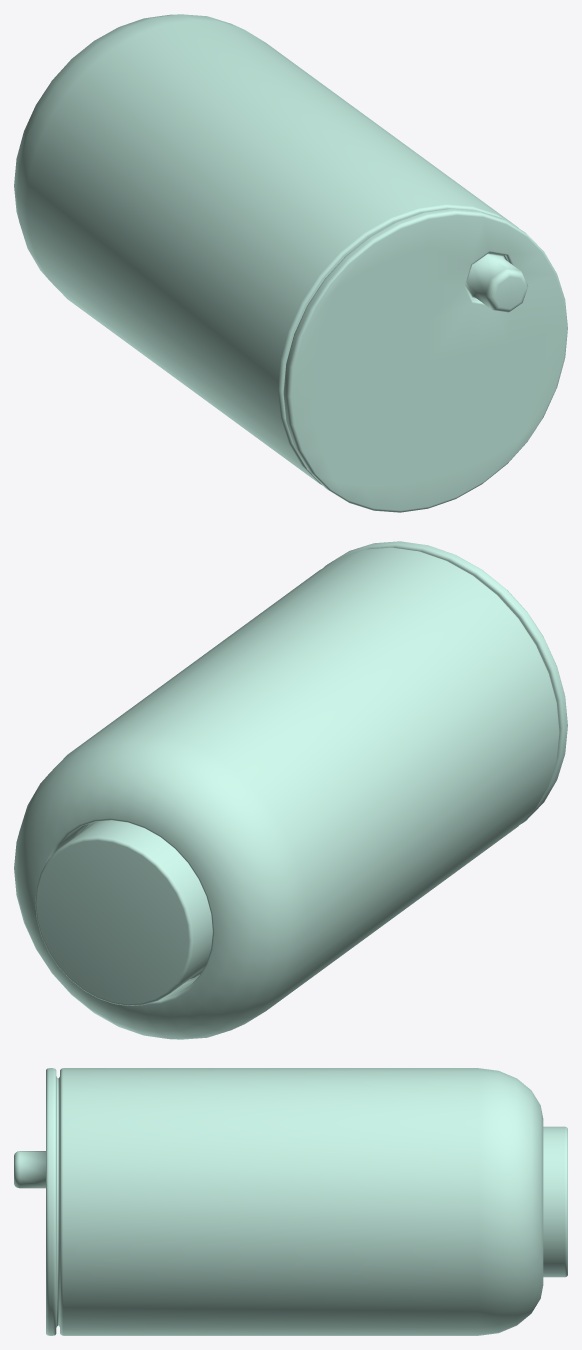
The model's file is hashira.glb.
The picture shows the model from 3 angles, top to bottom: view 1: azimuth 30°, elevation 25°; view 2: azimuth 150°, elevation 25°; view 3: azimuth 270°, elevation 25°; orthographic projection. The views are drawn at different scales.
Visible parts, largest first — view 1: Cylinder.001; view 2: Cylinder.001; view 3: Cylinder.001.
Boxes of the visible parts, box(x1,y1,x2,y2) form: Cylinder.001: box(14, 14, 567, 512); Cylinder.001: box(14, 541, 567, 1039); Cylinder.001: box(14, 1068, 567, 1335).
Bounding box in the file's own units: 2 × 2 × 4.14.
